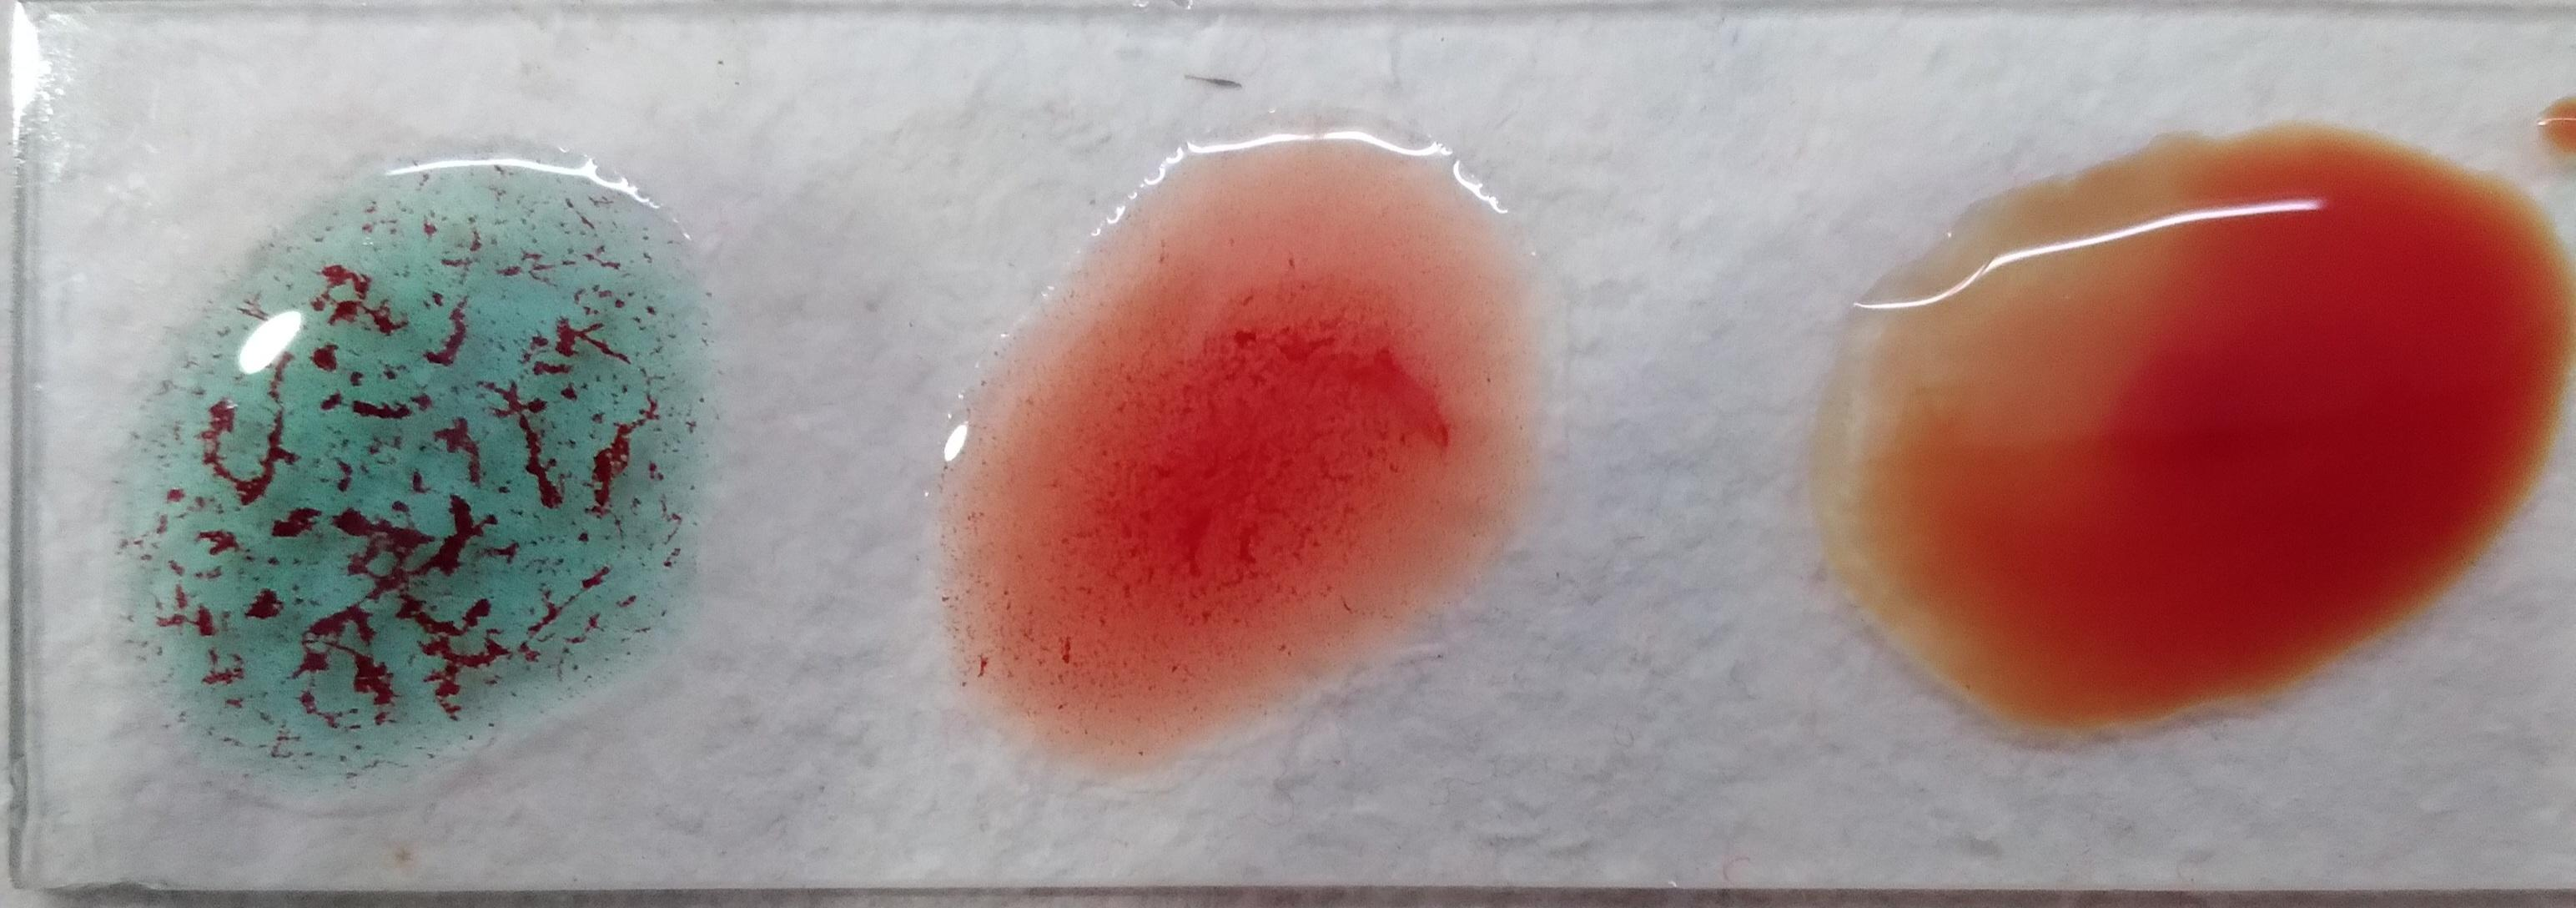A: (1870, 99, 2459, 724)
D: (1068, 151, 1628, 762)
